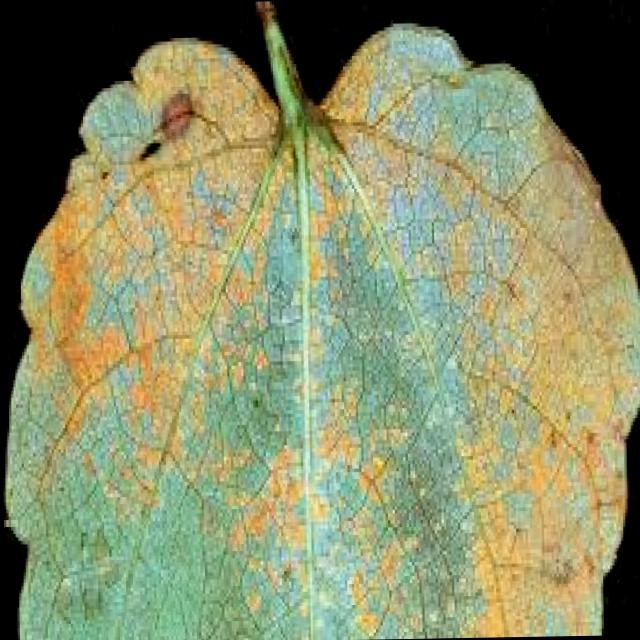leaf_rust: (7, 1, 640, 640)
